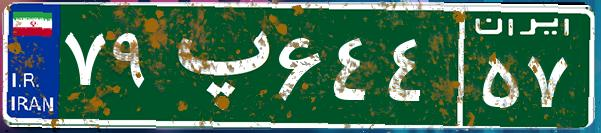4: (385, 28, 445, 110), (330, 28, 385, 110)
5: (475, 38, 525, 113)
6: (273, 28, 330, 110)
7: (57, 26, 110, 107), (525, 38, 570, 115)
9: (110, 28, 158, 105)
پ: (158, 15, 273, 115)
